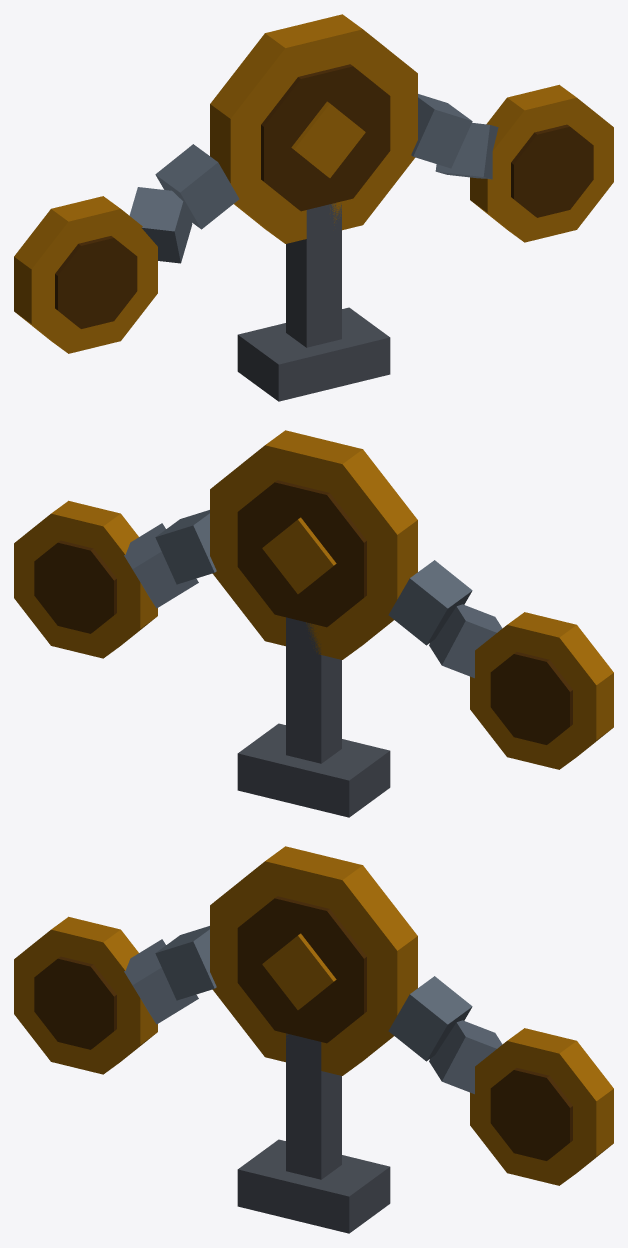
File: CadenaComercial_low.fbx
3 renders of one model, top to bottom at view 1: azimuth 30°, elevation 25°; view 2: azimuth 150°, elevation 25°; view 3: azimuth 330°, elevation 25°, orthographic.
Visible parts, largest first — view 1: CadenaComercial_low; view 2: CadenaComercial_low; view 3: CadenaComercial_low.
Boxes of the visible parts, left/top/right/bottom form: CadenaComercial_low: left=14, top=14, right=613, bottom=401; CadenaComercial_low: left=14, top=430, right=613, bottom=817; CadenaComercial_low: left=14, top=846, right=613, bottom=1233.
Size of the model in its own units: 97.7 by 54.81 by 12.16.
